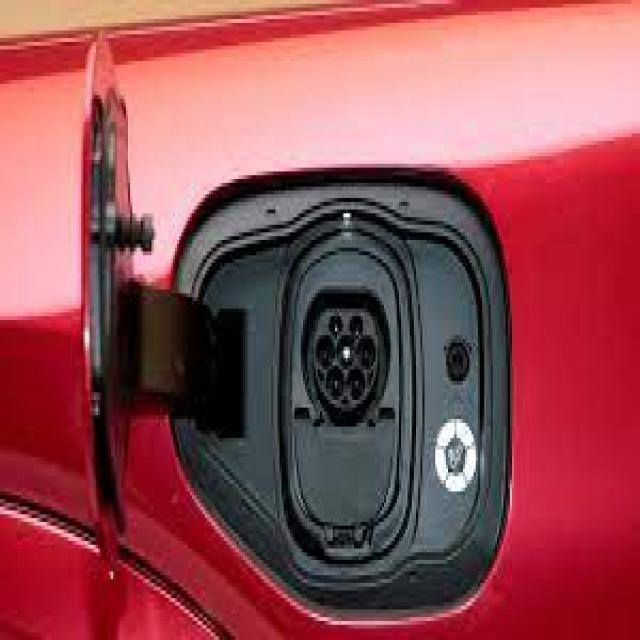inlet: (313, 308, 378, 413)
inlet-above-left: (329, 315, 343, 337)
inlet-above-right: (349, 316, 363, 337)
inlet-below-left: (326, 366, 345, 400)
inlet-below-right: (348, 368, 365, 398)
inlet-circle: (338, 336, 355, 370)
inlet-circle-left: (316, 336, 333, 369)
inlet-circle-right: (358, 334, 375, 369)
